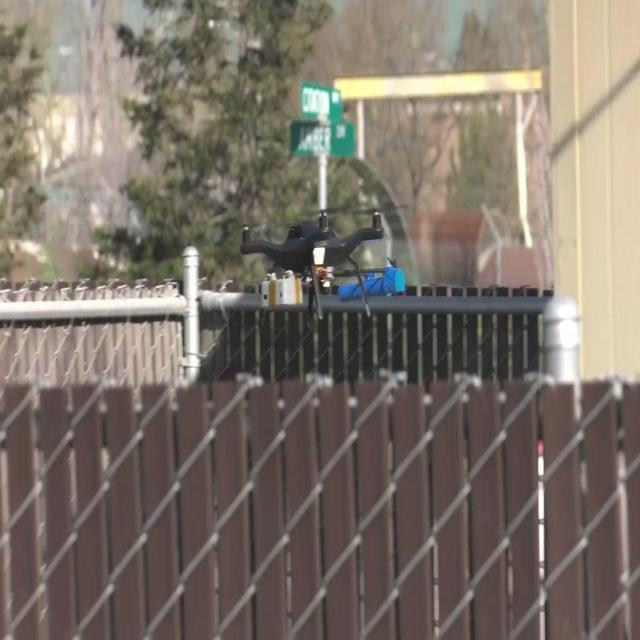UAV: (240, 210, 398, 328)
